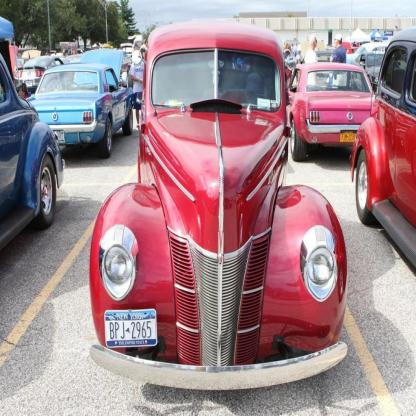Car: (90, 22, 349, 392), (286, 27, 416, 270), (1, 43, 135, 256)
